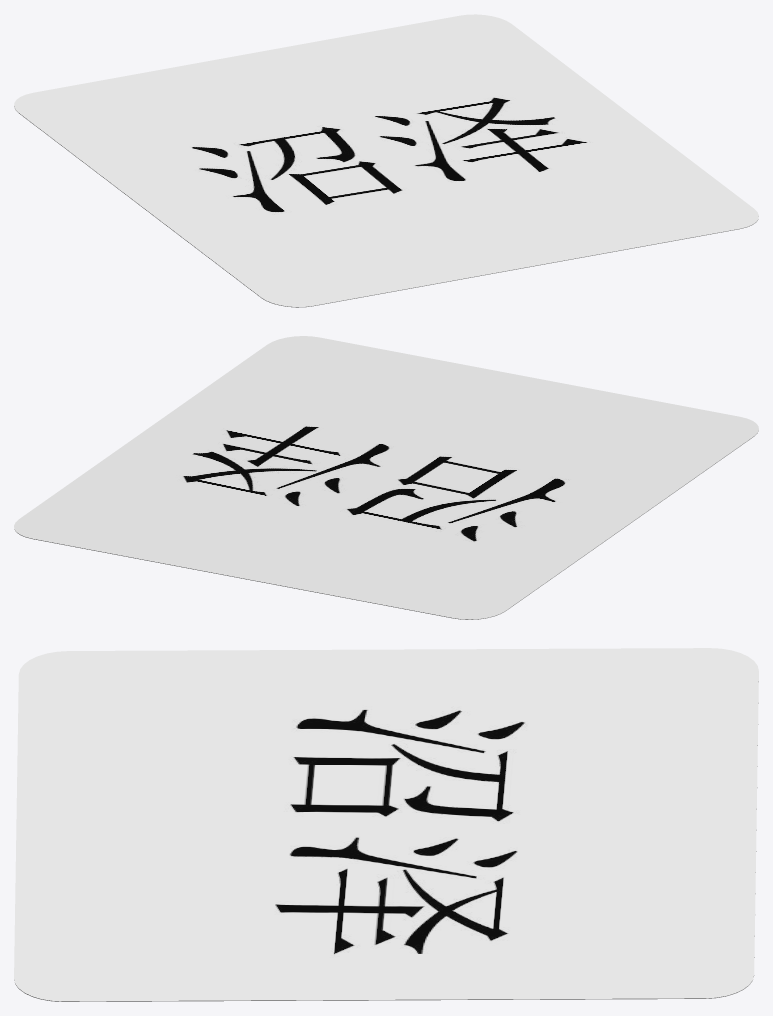
File: ZhaoZe.FBX
3 views of the same model, one above another, from view 1: azimuth 30°, elevation 25°; view 2: azimuth 150°, elevation 25°; view 3: azimuth 270°, elevation 25° (orthographic). The views are drawn at different scales.
Parts seen in each view (by area): view 1: Rectangle001; view 2: Rectangle001; view 3: Rectangle001.
Part boxes in pixels (x1,y1,x2,y2): Rectangle001: (14,14,758,307); Rectangle001: (14,336,758,619); Rectangle001: (14,648,758,1001).
Bounding box in the file's own units: 60.32 × 3.91 × 60.38.
